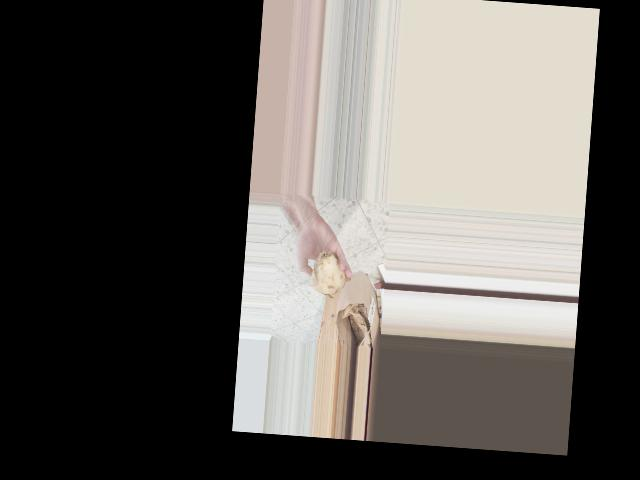onion: (306, 245, 350, 298)
